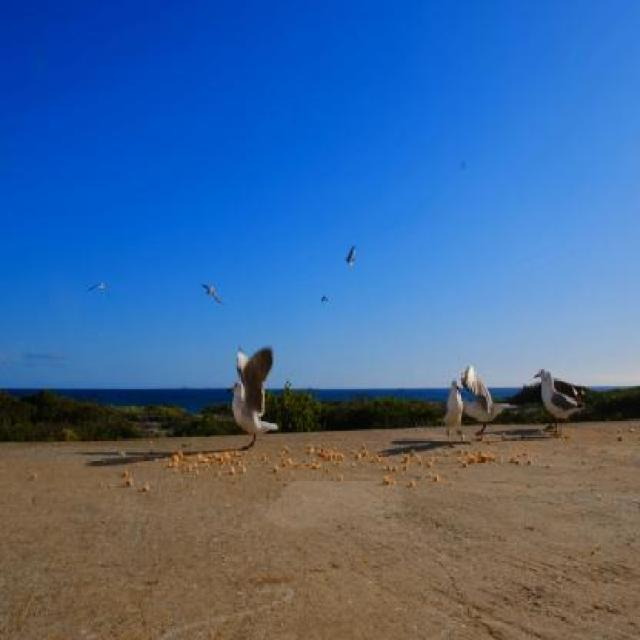bird: (196, 272, 227, 314), (85, 270, 117, 304), (344, 240, 358, 274), (319, 287, 330, 308)
